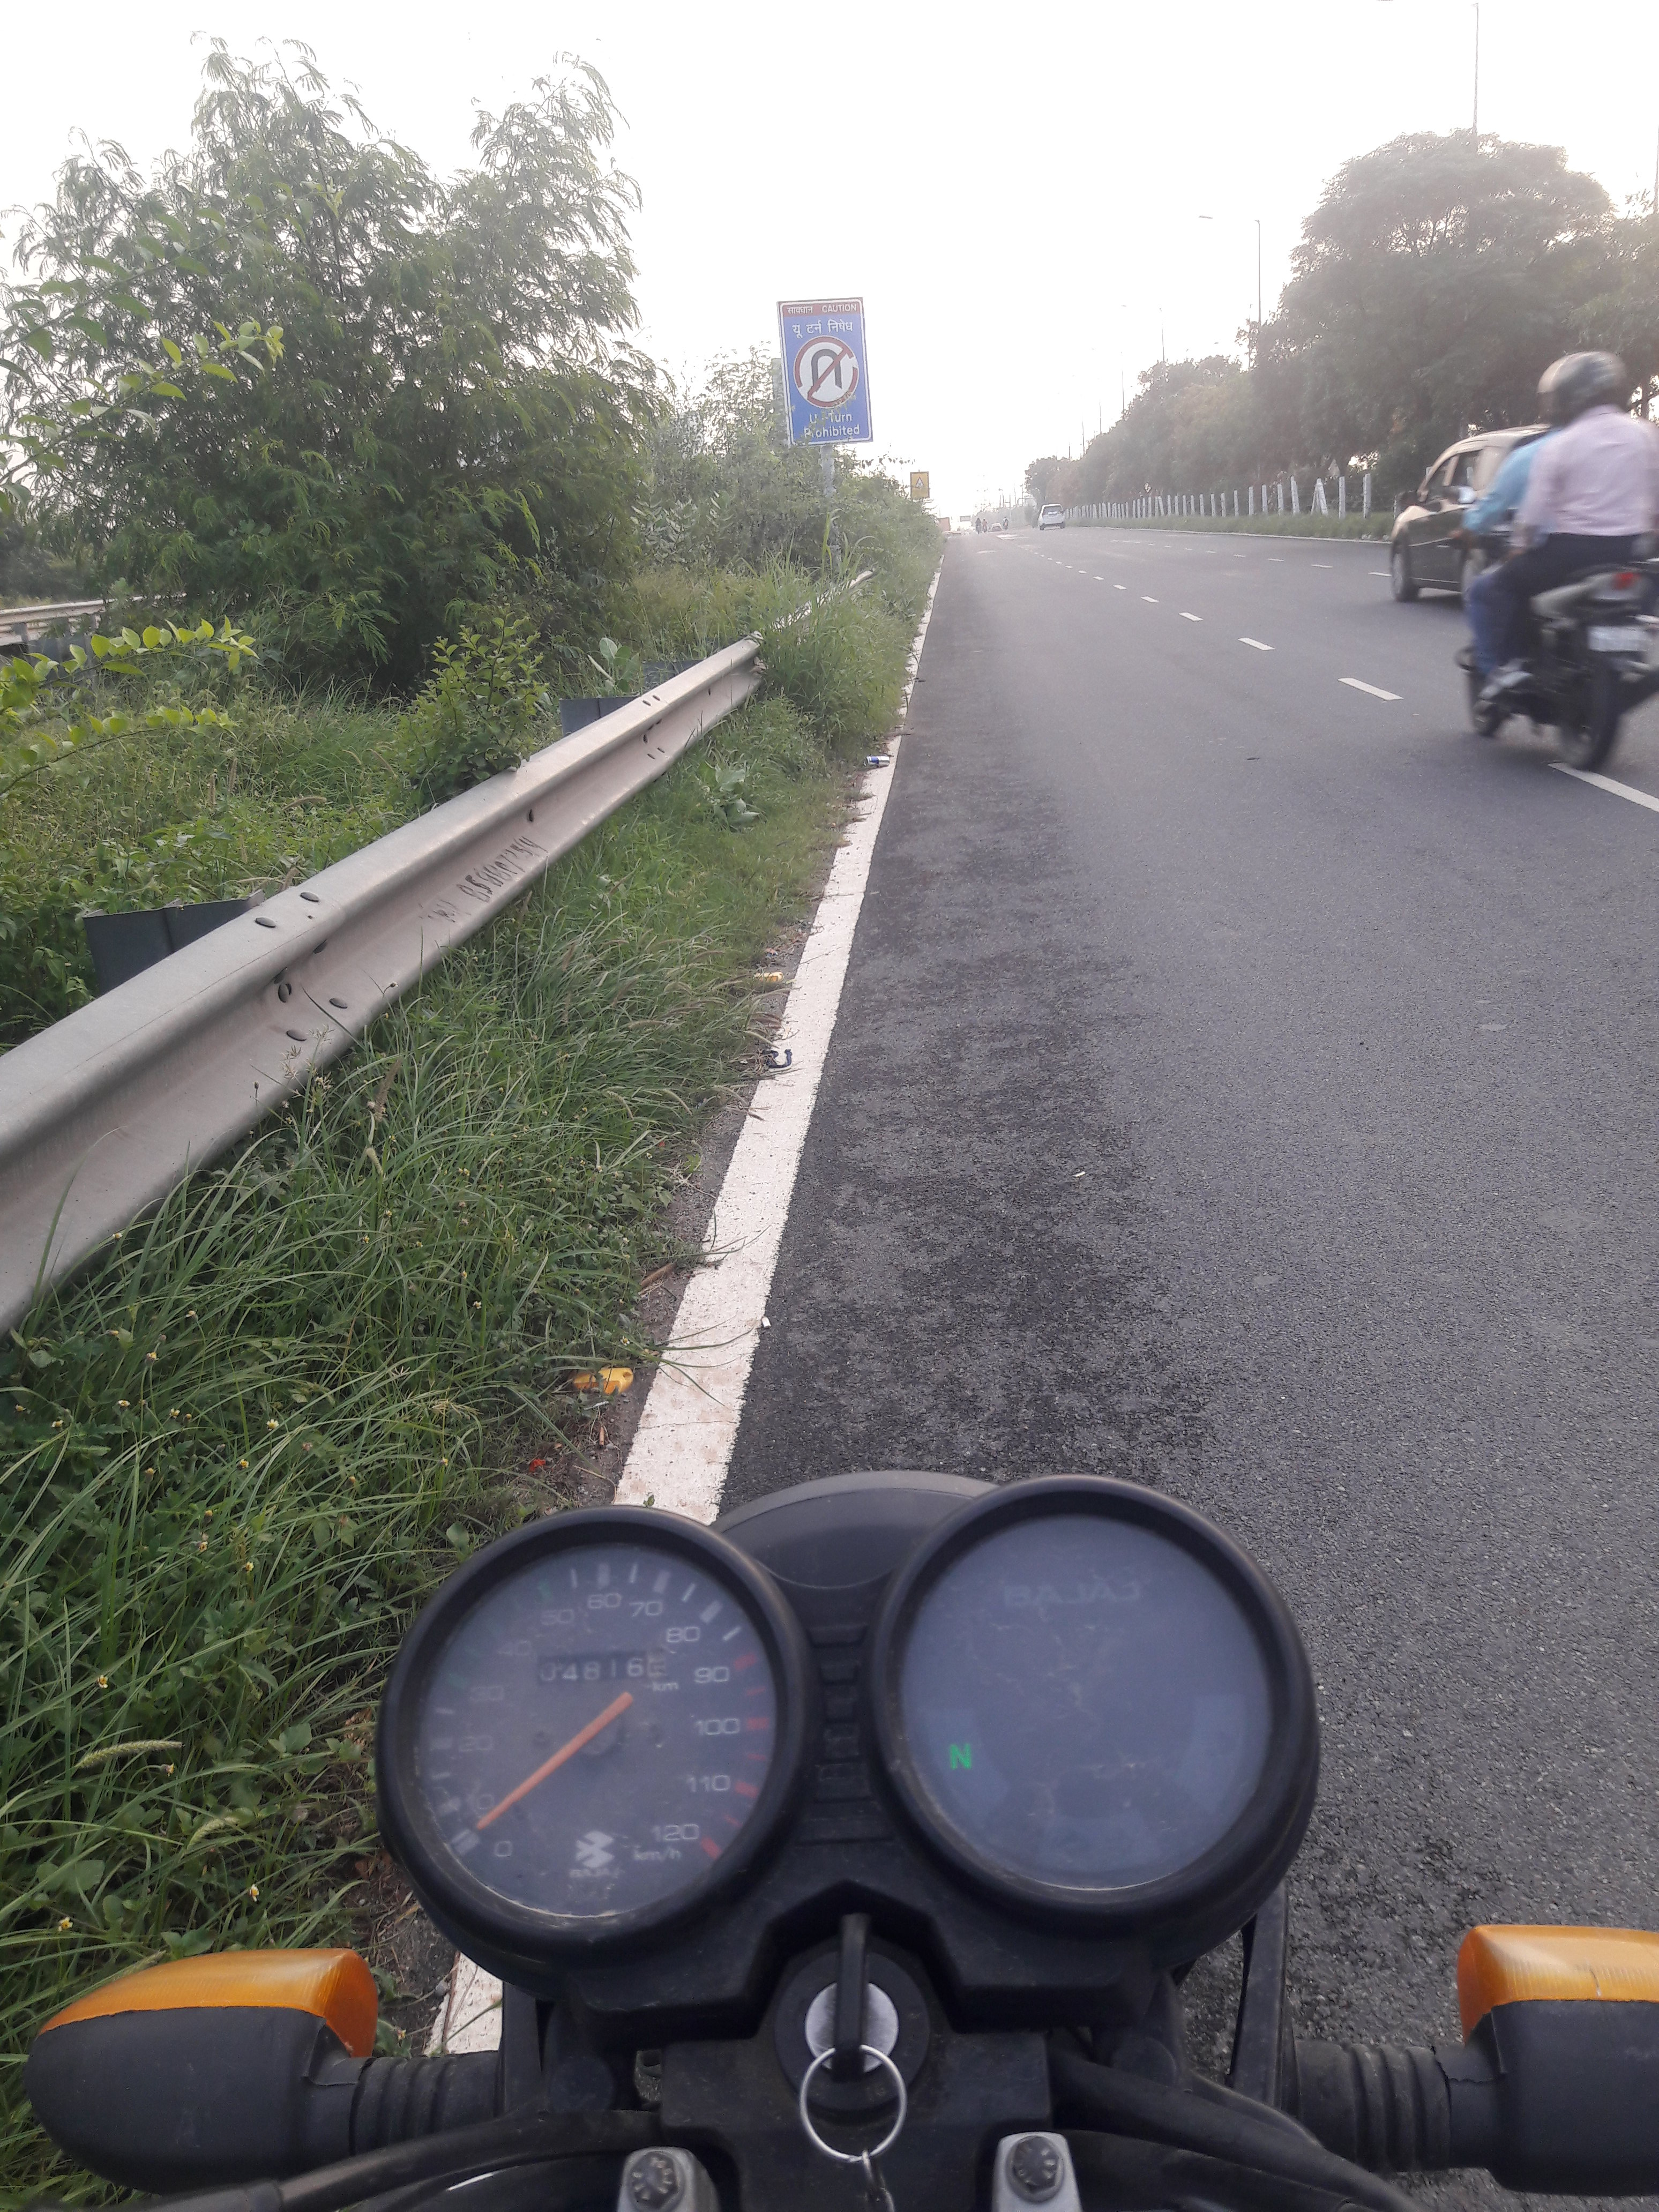traffic_sign: (775, 300, 871, 449), (910, 472, 931, 498)
